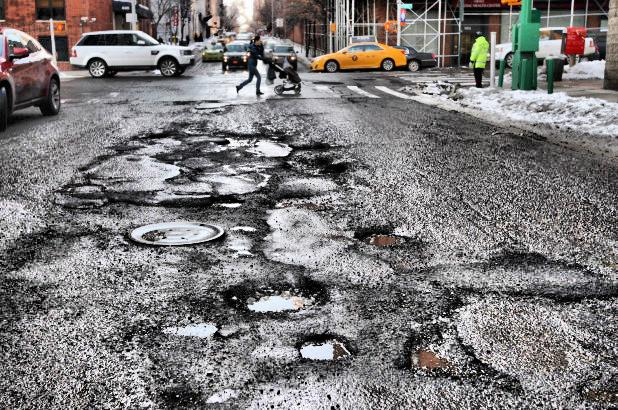pothole: (229, 278, 317, 318), (400, 333, 458, 386), (294, 334, 354, 366), (350, 226, 408, 254), (281, 154, 330, 178), (205, 196, 246, 213)
